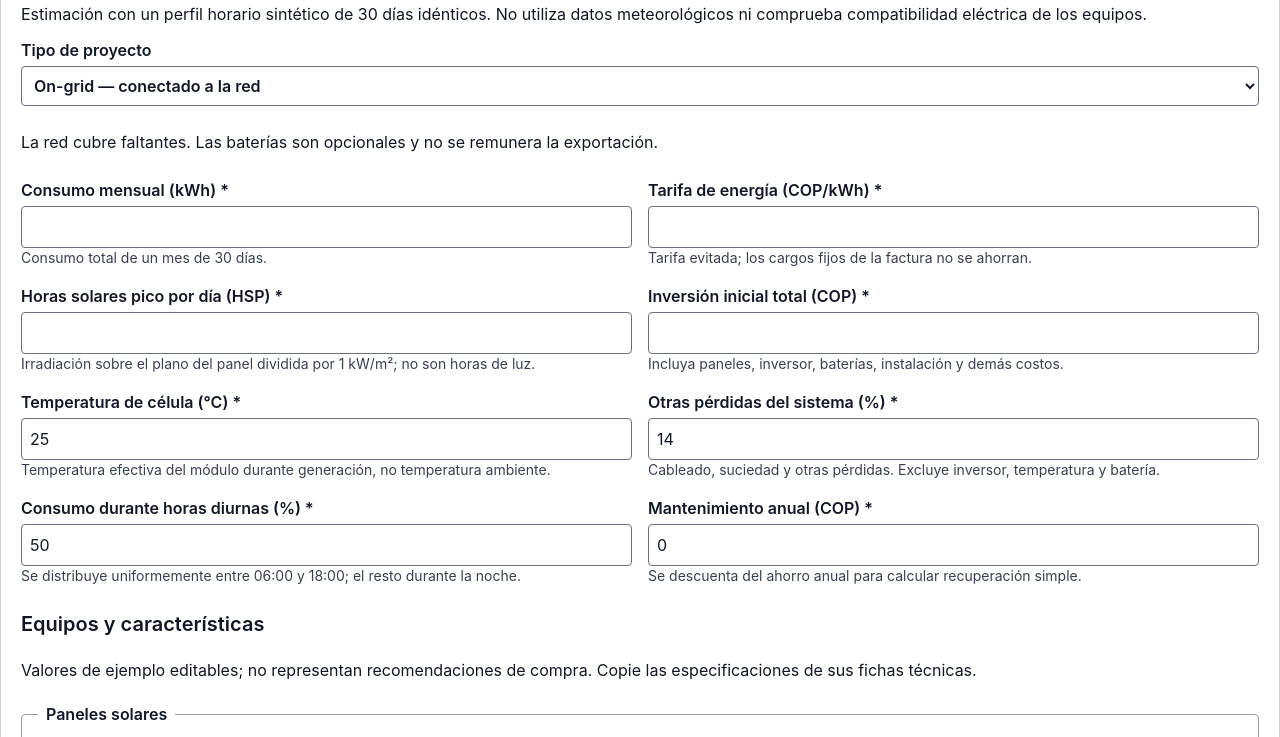
Scenario: SimuladorPersonalizado › Interfaz y accesibilidad › reinicia correctamente el formulario
This screenshot has width=1280, height=737.
Type "250" into the number field with test id "input-consumo-mensual" at (326, 227), box [21, 206, 632, 248]
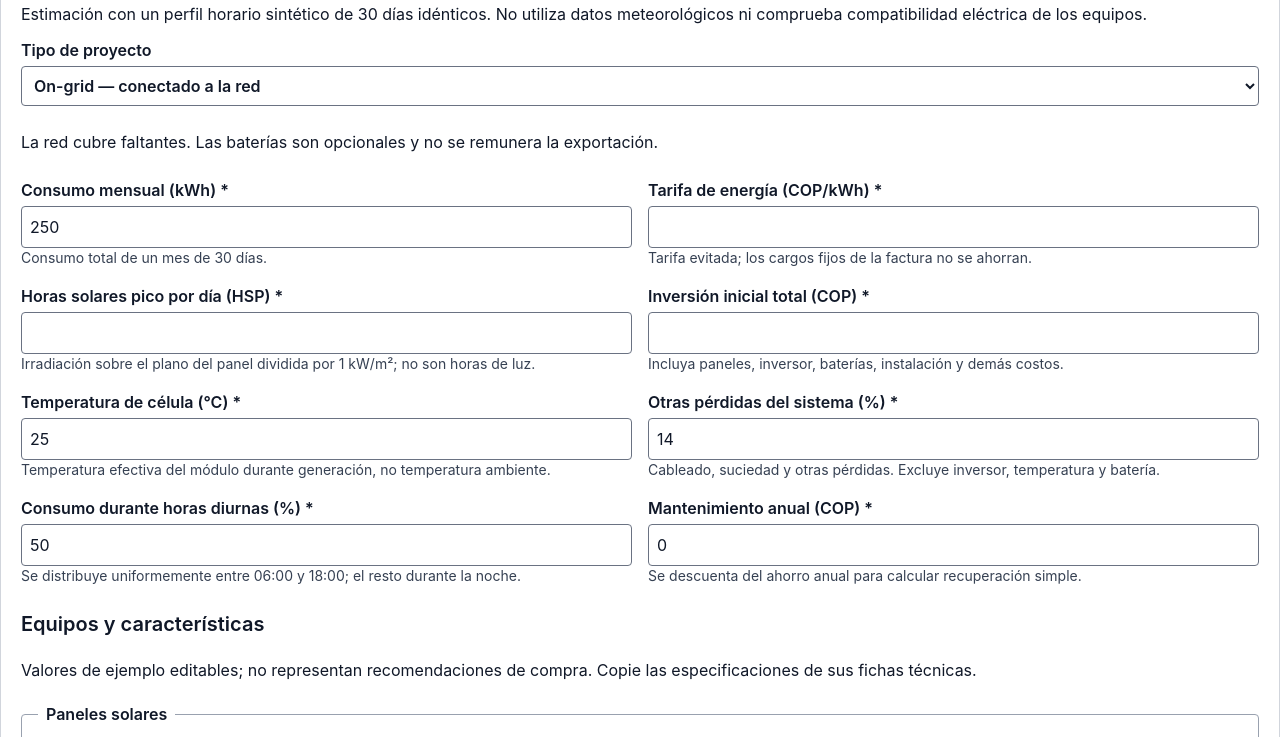
Type "454" into the number field with test id "input-precio-electricidad" at (954, 227), box [648, 206, 1259, 248]
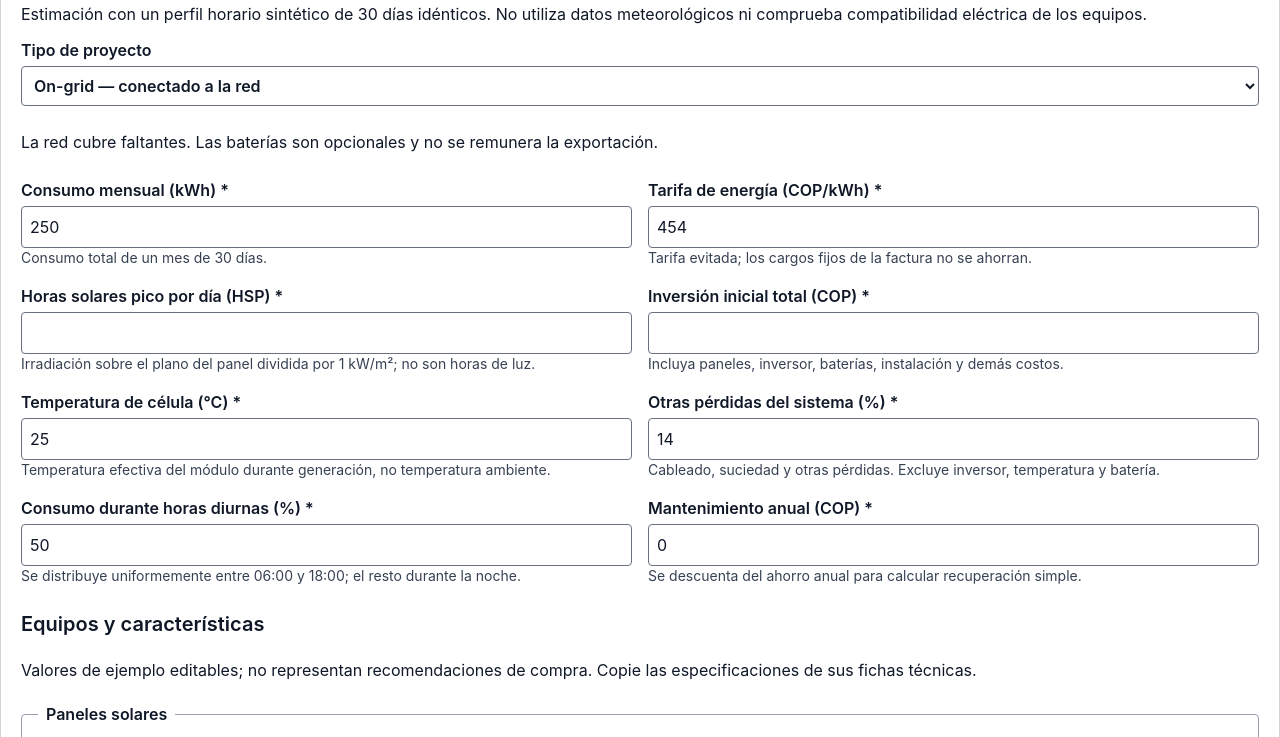
Type "5" into the number field with test id "input-horas-sol" at (326, 333), box [21, 312, 632, 354]
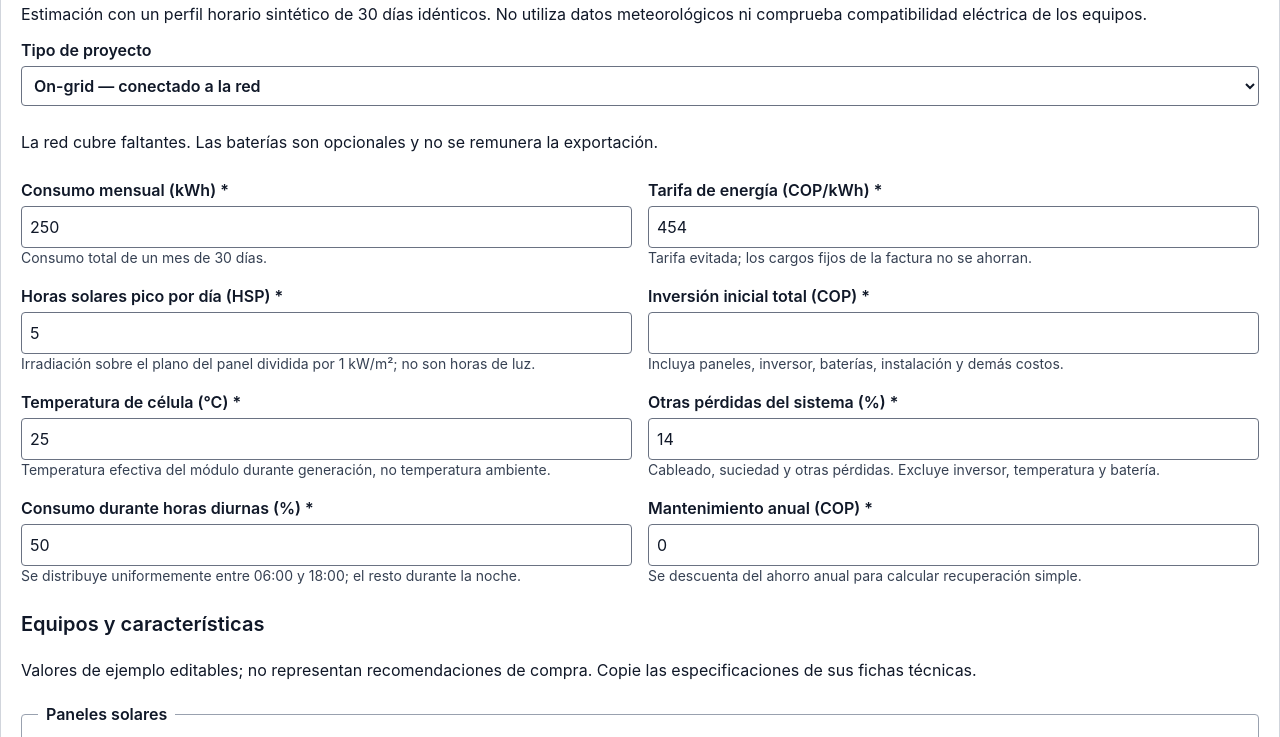
Type "9500000" into the number field with test id "input-inversion-inicial" at (954, 333), box [648, 312, 1259, 354]
(page scrolled)
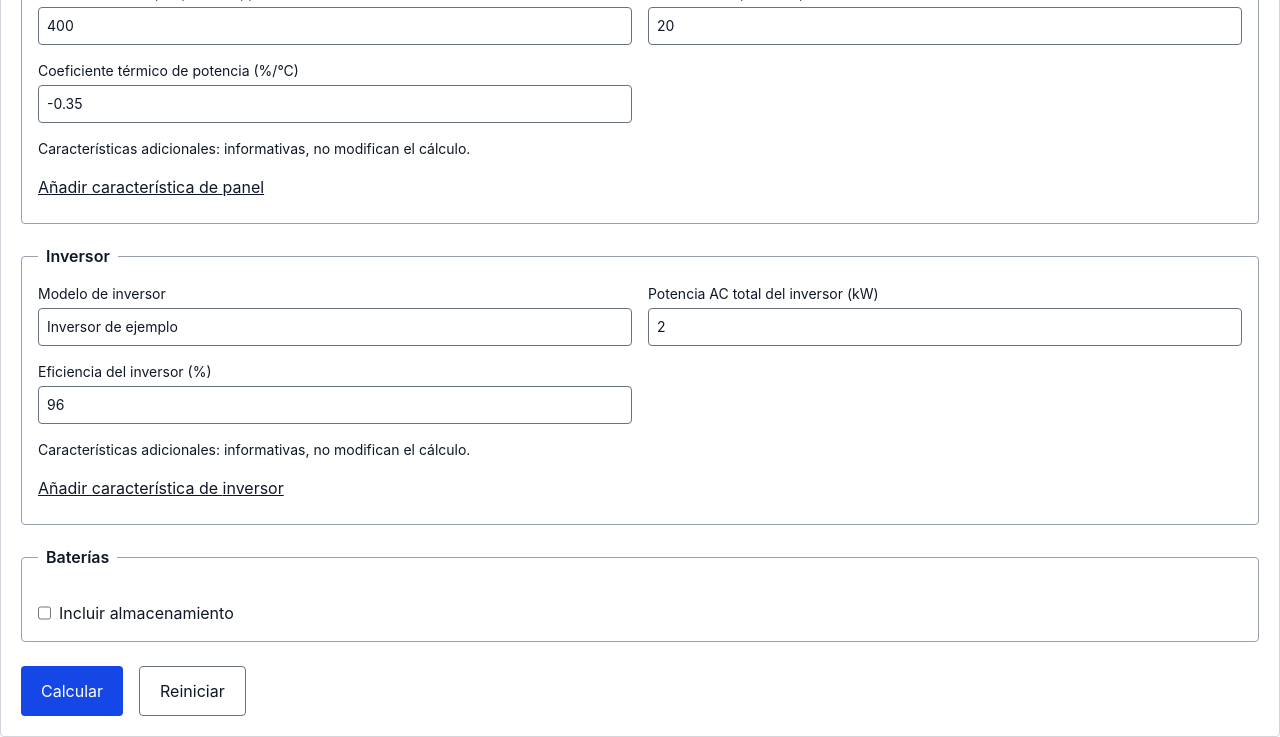
Click the button with test id "btn-reiniciar" at (192, 691), box [139, 666, 246, 716]
(page scrolled)
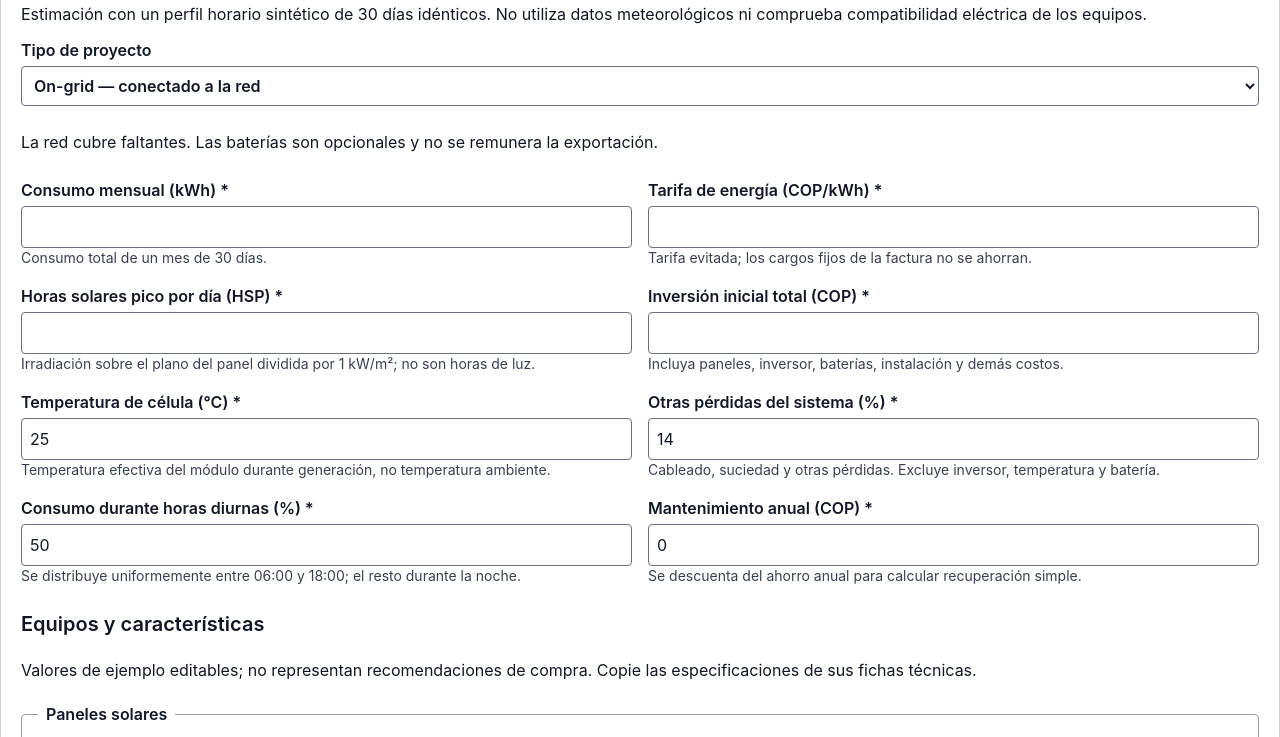
Check: the number field with test id "input-consumo-mensual" is not empty, box [21, 206, 632, 248]
Check: the number field with test id "input-precio-electricidad" is not empty, box [648, 206, 1259, 248]
Check: the number field with test id "input-horas-sol" is not empty, box [21, 312, 632, 354]
